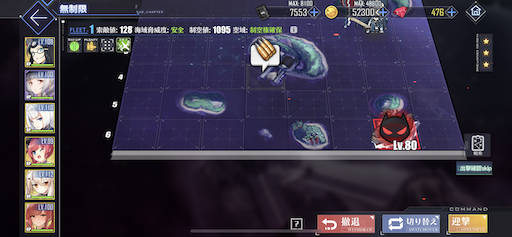boss: (374, 117, 419, 151)
